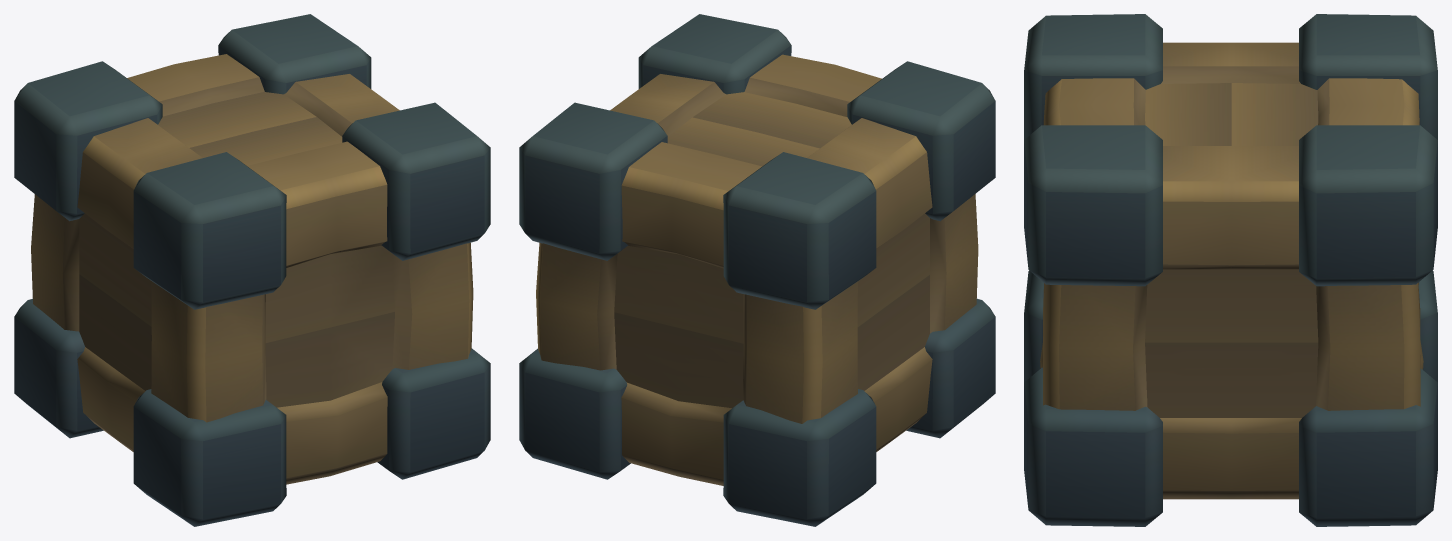
The model's file is box_wooden_3.fbx.
3 views of the same model, side by side, from view 1: azimuth 30°, elevation 25°; view 2: azimuth 150°, elevation 25°; view 3: azimuth 270°, elevation 25° (orthographic). The views are drawn at different scales.
Visible parts, largest first — view 1: box_wooden_3; view 2: box_wooden_3; view 3: box_wooden_3.
Boxes of the visible parts, box(x1,y1,x2,y2) form: box_wooden_3: box(14, 14, 490, 526); box_wooden_3: box(519, 14, 995, 526); box_wooden_3: box(1024, 14, 1437, 526).
Size of the model in its own units: 106 by 104 by 108.
